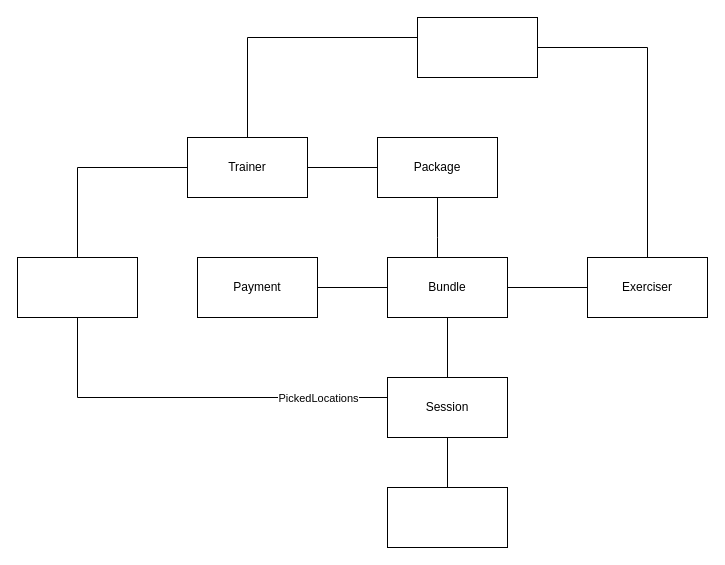
The diagram is 725 pixels wide and 565 high, and some of its shapes have lost their labels. Here are the shapes that lost their labels. From the top down, the centre of each, then its label:
At pixel 477 47: "Notification".
At pixel 77 287: "Location".
At pixel 447 517: "Survey".
